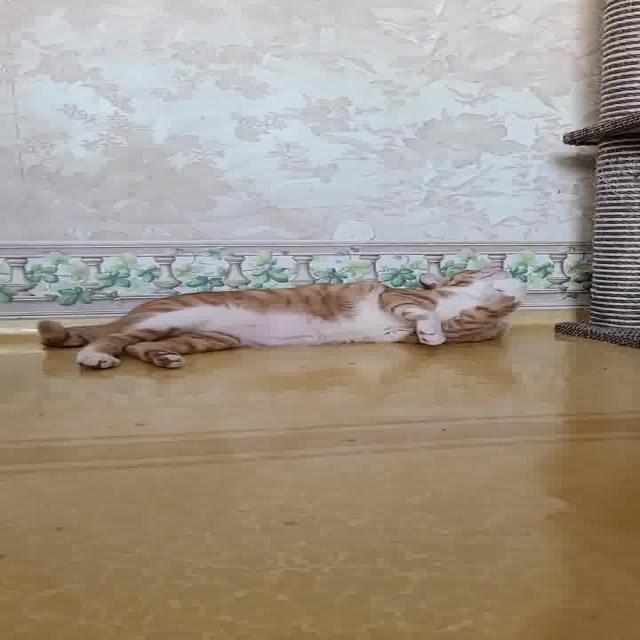cat: (19, 261, 550, 389)
